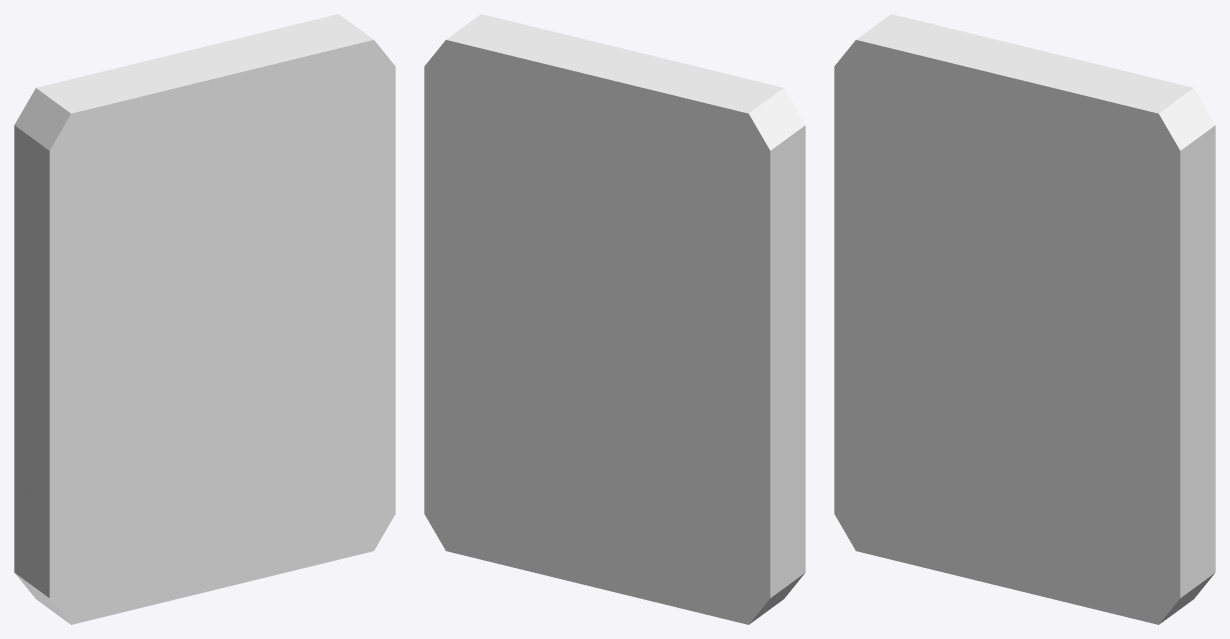
File: cardCommon.fbx
The picture shows the model from 3 angles, left to right: view 1: azimuth 30°, elevation 25°; view 2: azimuth 150°, elevation 25°; view 3: azimuth 330°, elevation 25°; orthographic projection.
Visible parts, largest first — view 1: emission; view 2: emission; view 3: emission.
Part boxes in pixels (box(x1,y1,x2,y2)): emission: box(14, 14, 395, 624); emission: box(424, 14, 805, 624); emission: box(834, 14, 1215, 624).
Size of the model in its own units: 106 by 150 by 18.75.
1 material, 1 textured.
